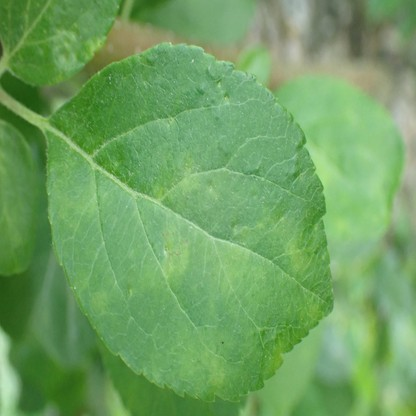scab: (47, 138, 113, 232), (175, 326, 233, 384), (204, 237, 249, 290), (154, 151, 198, 201), (161, 228, 188, 274), (285, 238, 305, 271), (264, 341, 285, 371), (91, 289, 108, 317)
